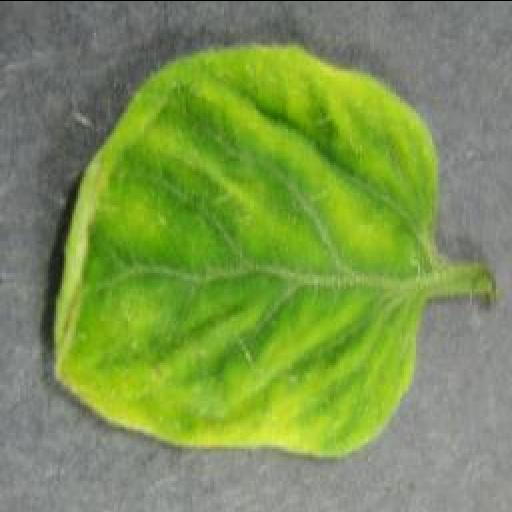disease_tomato: (48, 34, 442, 458)
